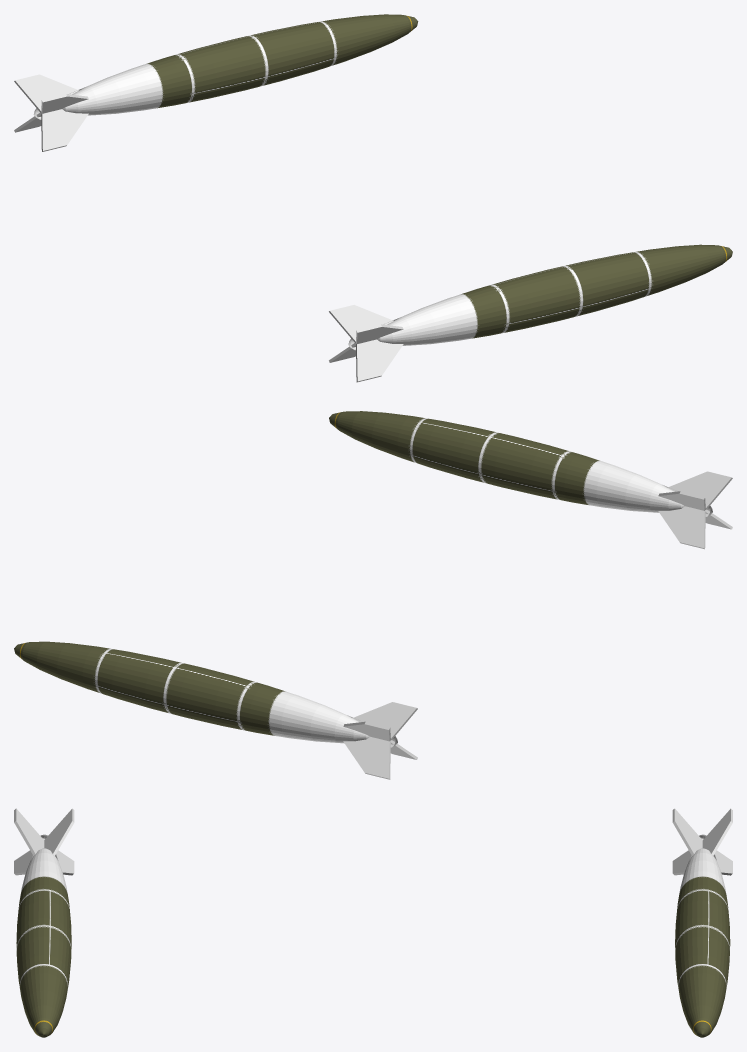
File: f15egbu3126.glb
3 views of the same model, one above another, from view 1: azimuth 30°, elevation 25°; view 2: azimuth 150°, elevation 25°; view 3: azimuth 270°, elevation 25° (orthographic). The views are drawn at different scales.
Parts seen in each view (by area): view 1: 立方体.010, 立方体.026; view 2: 立方体.010, 立方体.026; view 3: 立方体.026, 立方体.010.
Part boxes in pixels (x1,y1,x2,y2): 立方体.010: (14,14,418,151); 立方体.026: (329,244,732,382); 立方体.010: (14,641,417,779); 立方体.026: (329,411,732,549); 立方体.026: (14,808,74,1037); 立方体.010: (672,808,732,1037).
Bounding box in the file's own units: 3.8 × 0.4884 × 5.81.
1 material, 1 textured.
